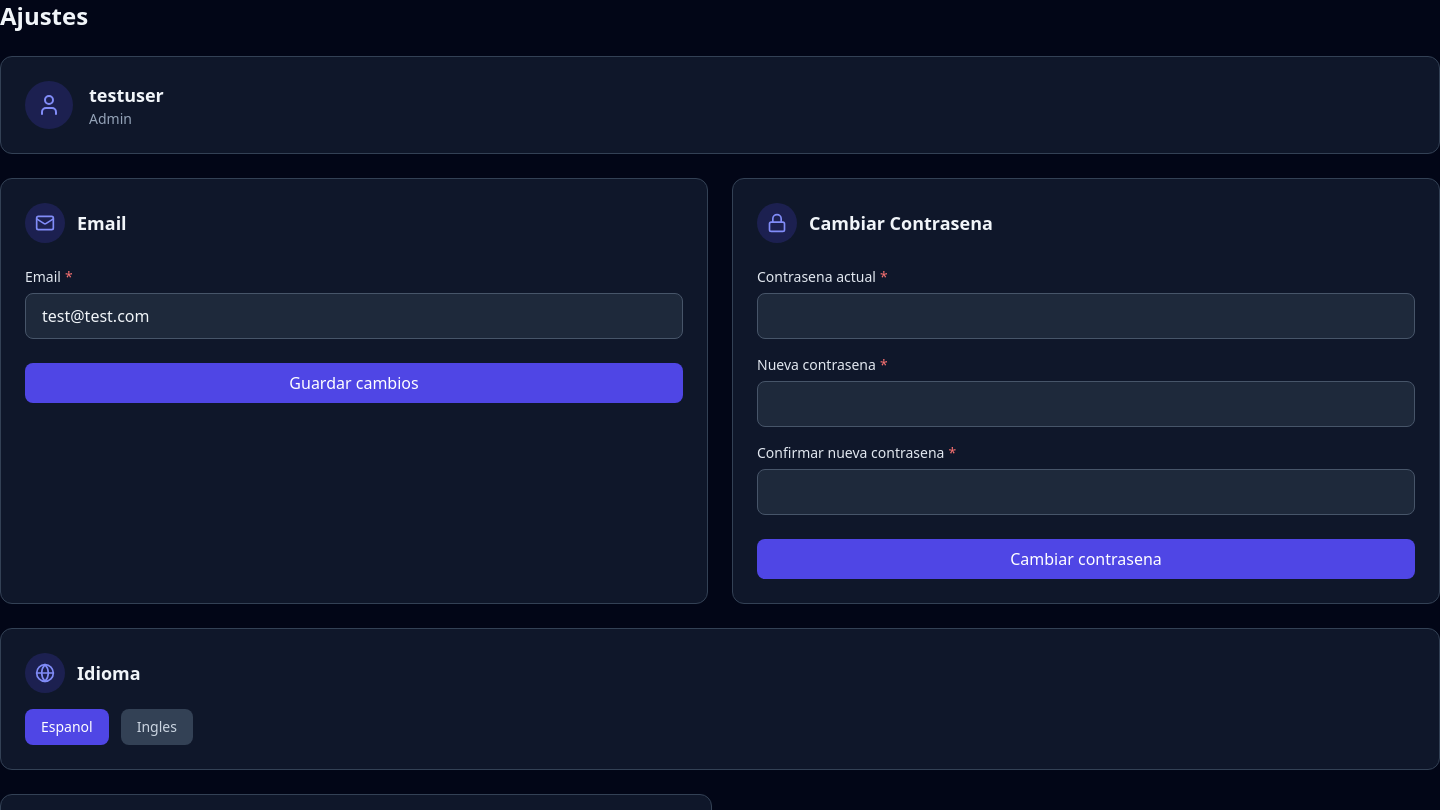
Test: SettingsPage › validates passwords match
Type "oldpass" into the password field with id "current_password". click: (1086, 316)
box: [757,293,1415,339]
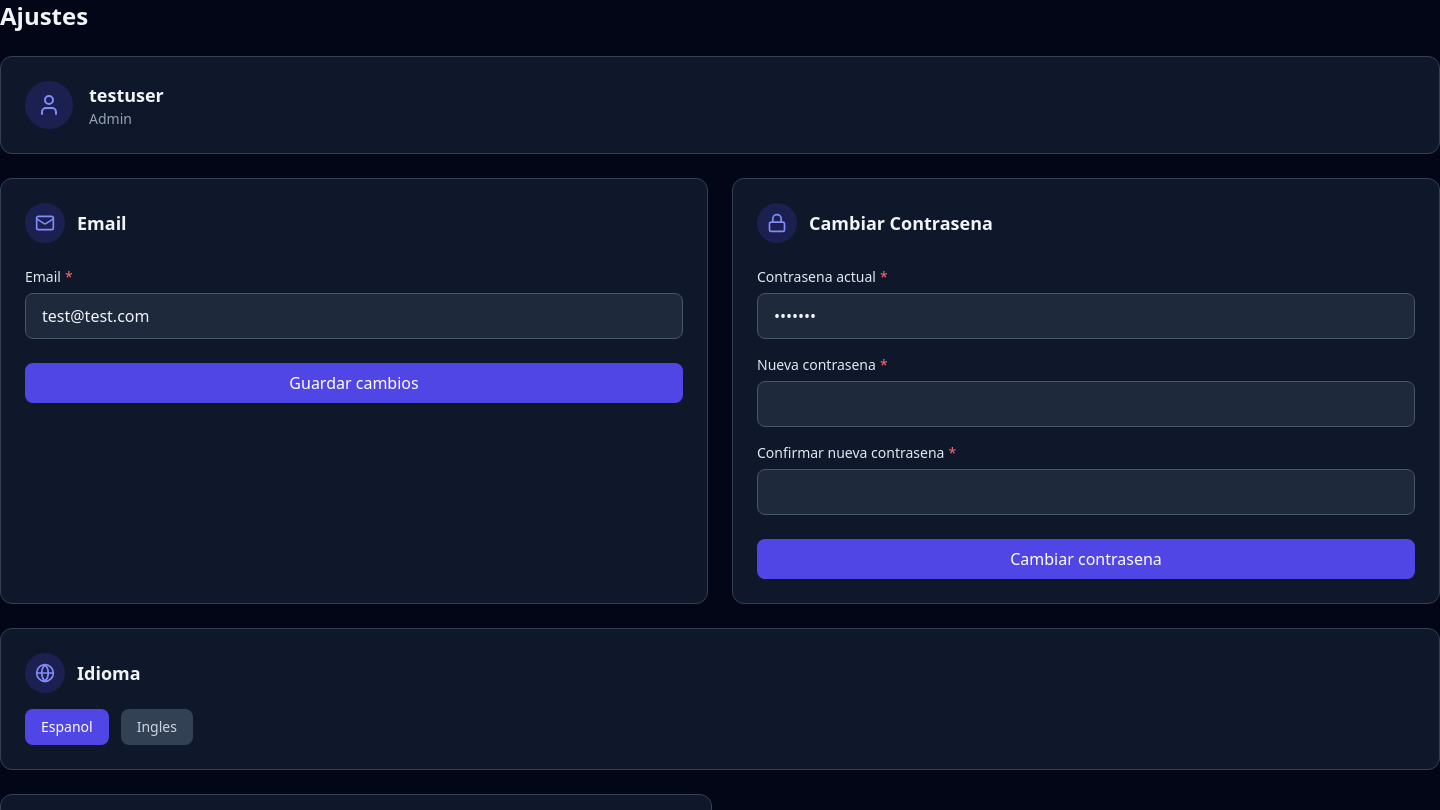
Type "newpassword1" into the password field with id "new_password". click: (1086, 404)
box: [757,381,1415,427]
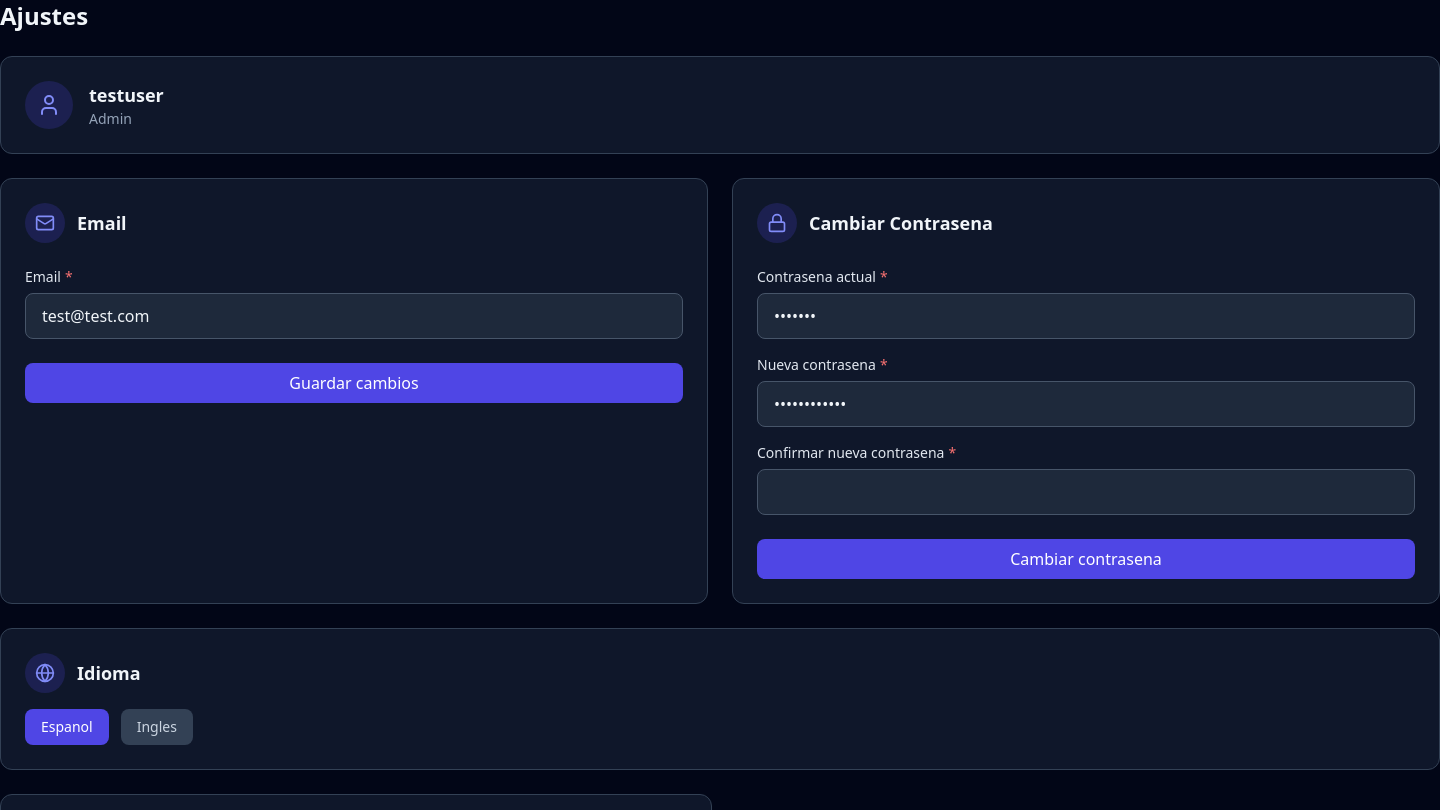
Type "differentpass" into the password field with id "confirm_password". click: (1086, 492)
box: [757,469,1415,515]
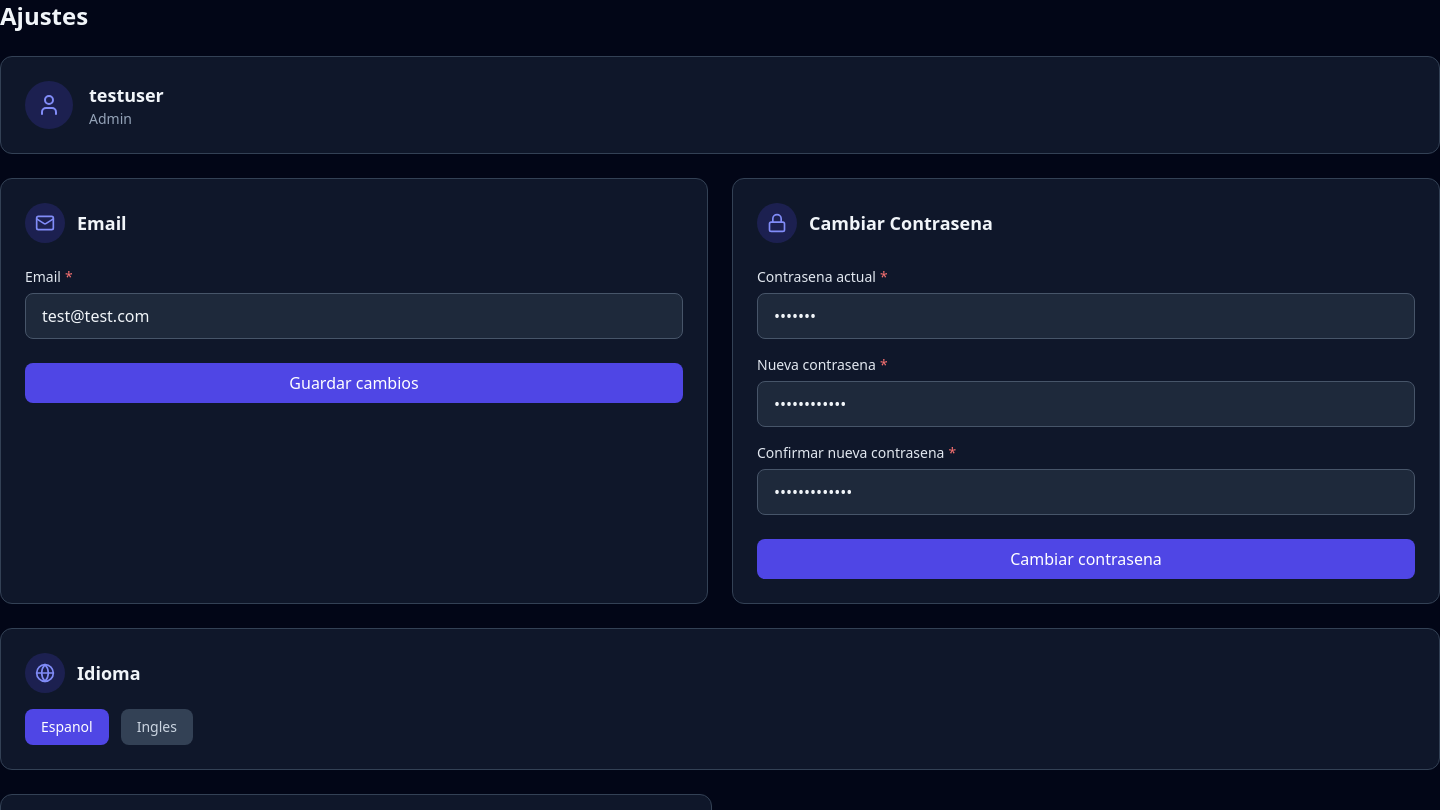
Click the button "Cambiar contrasena". click: click(1086, 559)
box: [757,539,1415,579]
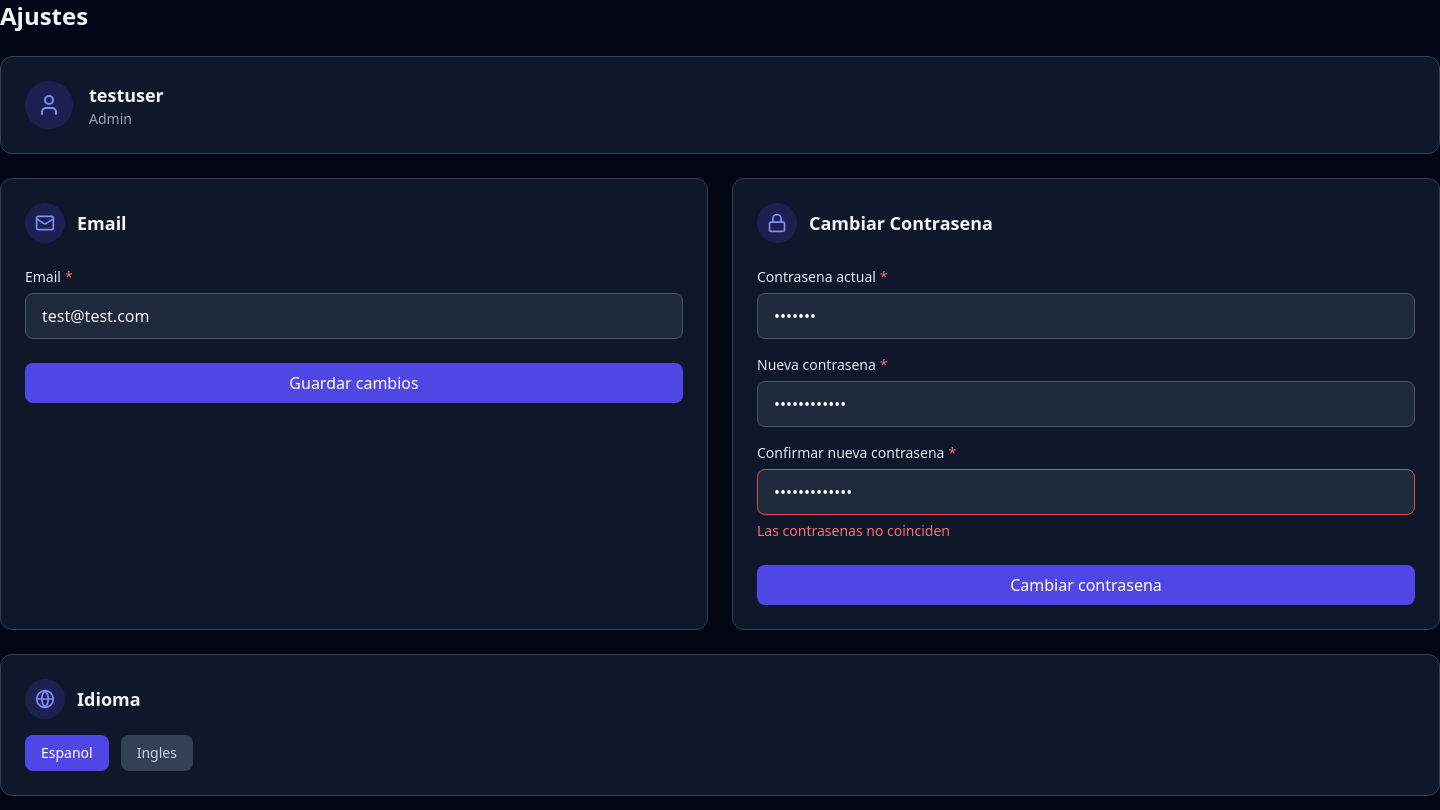
expect the text "Las contrasenas no coinciden" is shown: met, box [757,521,950,540]
